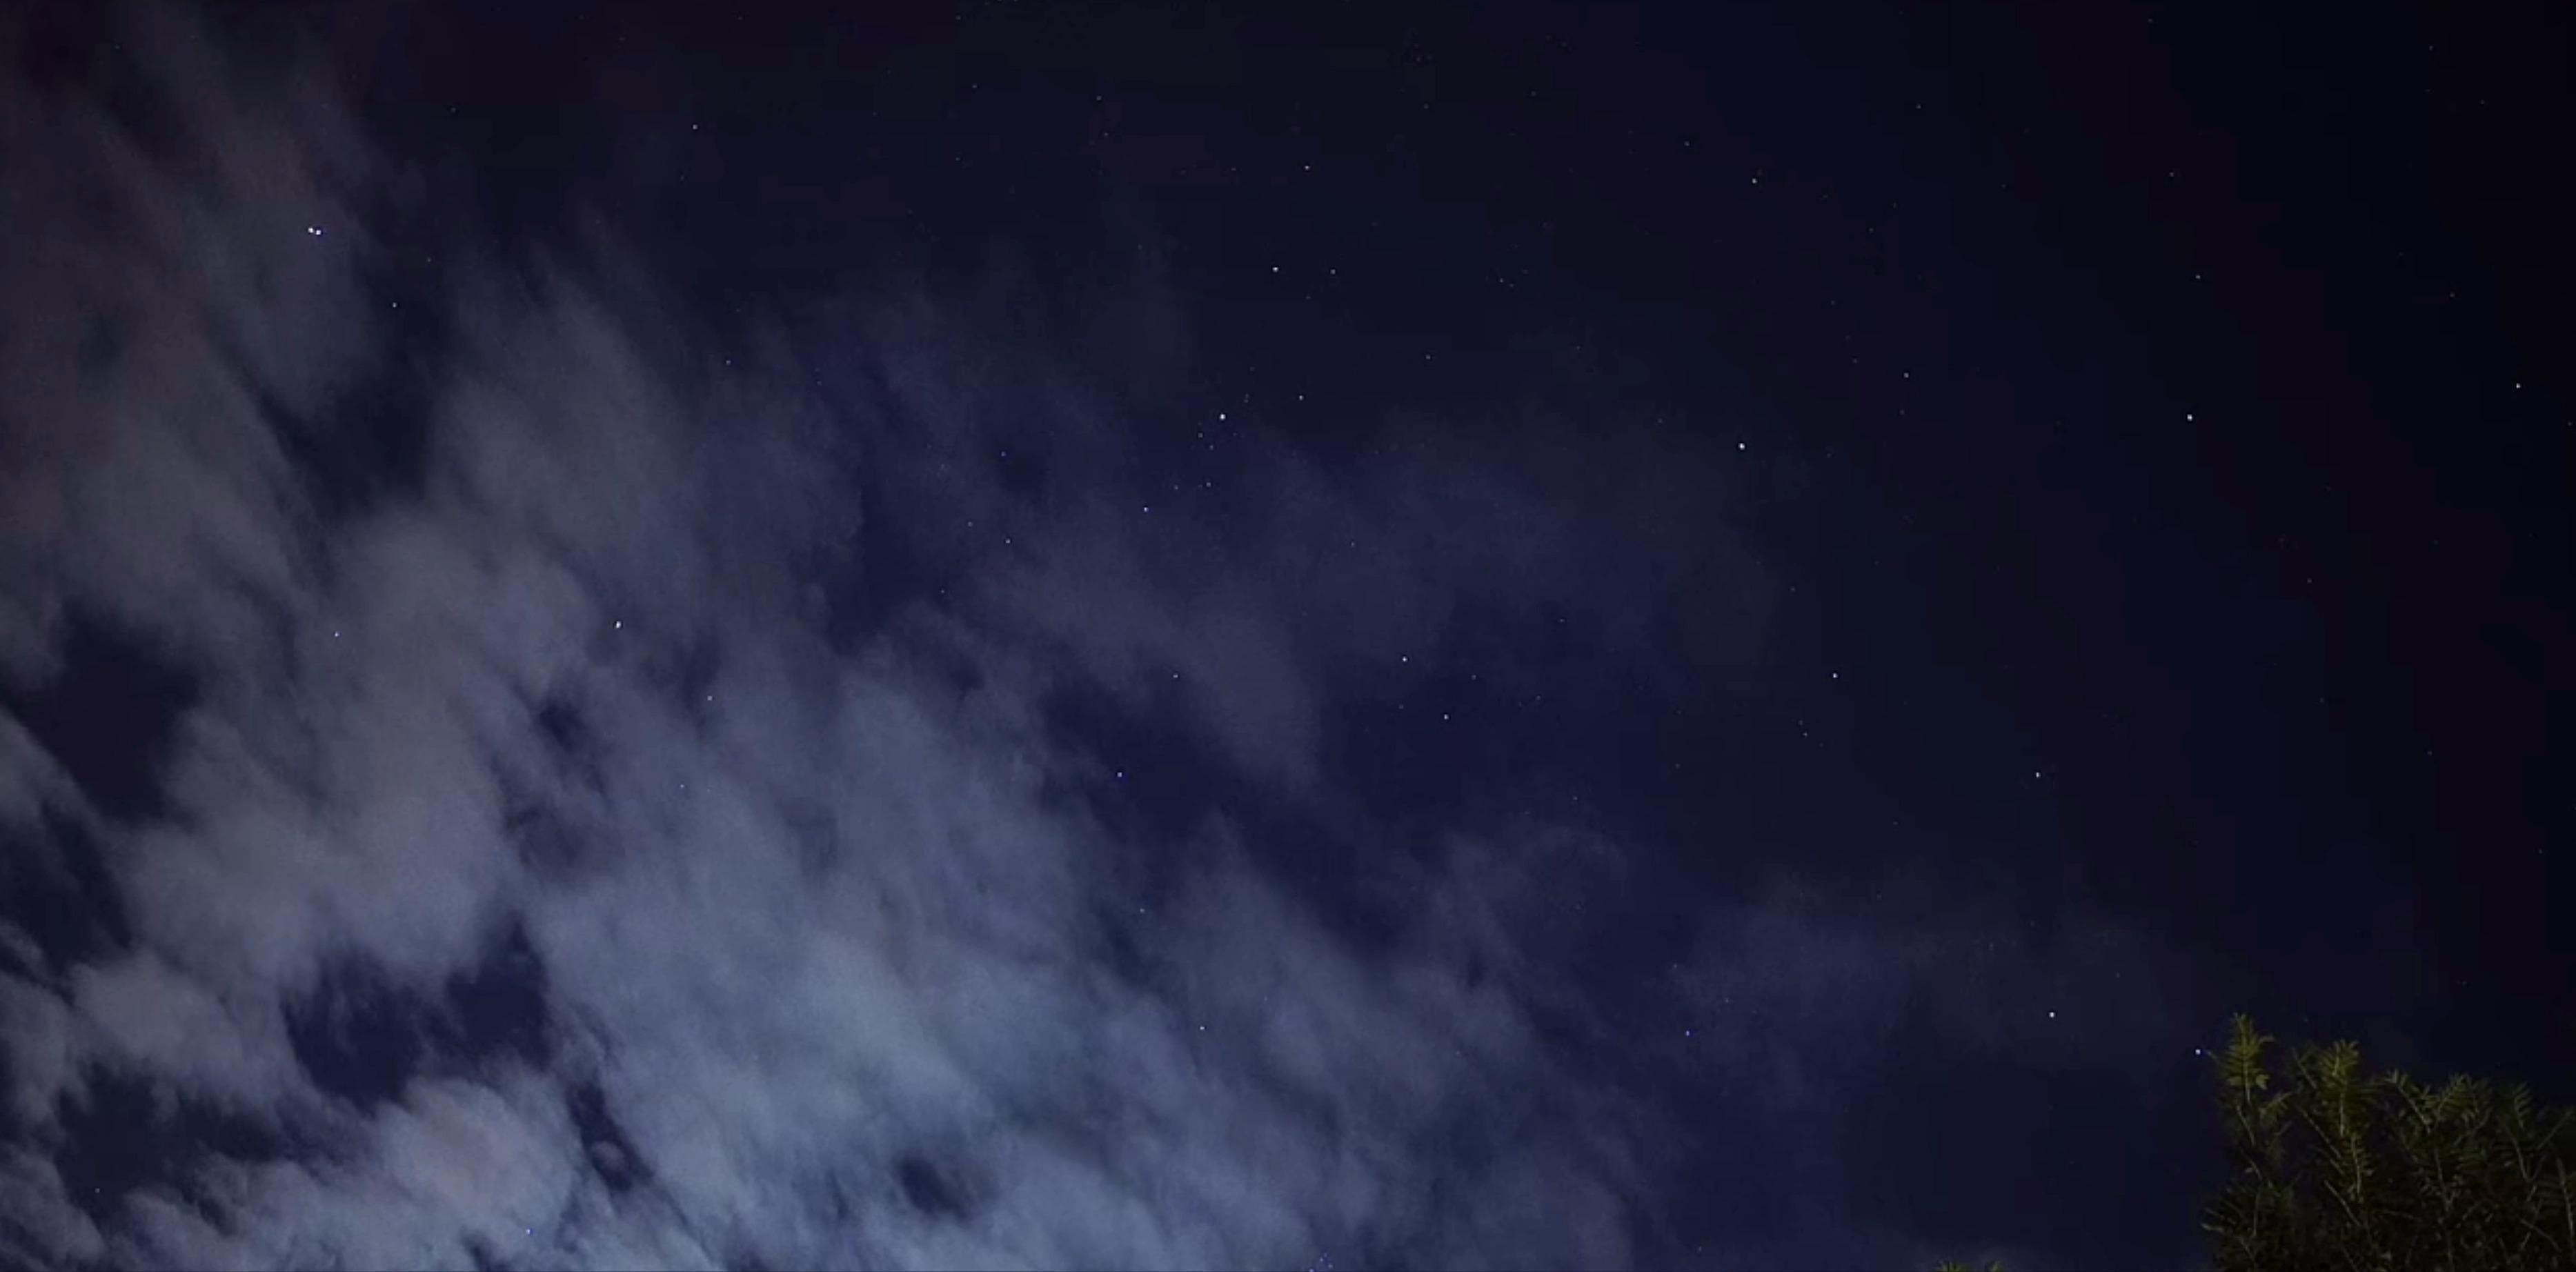Plane: (299, 220, 327, 243)
